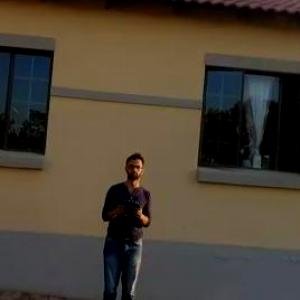follow: (93, 147, 153, 299)
